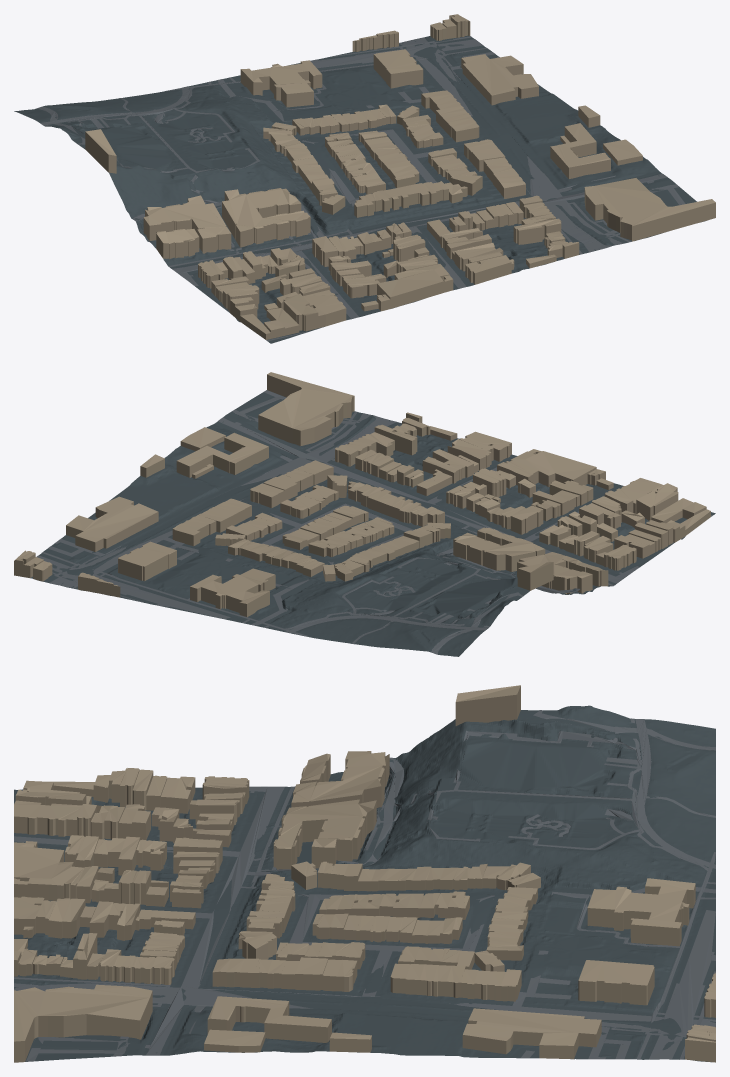
The model's file is epsg26910-1428-10889.lod0.glb.
3 renders of one model, top to bottom at view 1: azimuth 30°, elevation 25°; view 2: azimuth 150°, elevation 25°; view 3: azimuth 270°, elevation 25°, orthographic. The views are drawn at different scales.
Visible parts, largest first — view 1: epsg26910-1428-10889-lod0; view 2: epsg26910-1428-10889-lod0; view 3: epsg26910-1428-10889-lod0.
Boxes of the visible parts, x1,y1,x2,y2 form: epsg26910-1428-10889-lod0: (14,14,715,343); epsg26910-1428-10889-lod0: (14,372,715,656); epsg26910-1428-10889-lod0: (14,685,715,1062).
Size of the model in its own units: 384 by 64.32 by 384.
